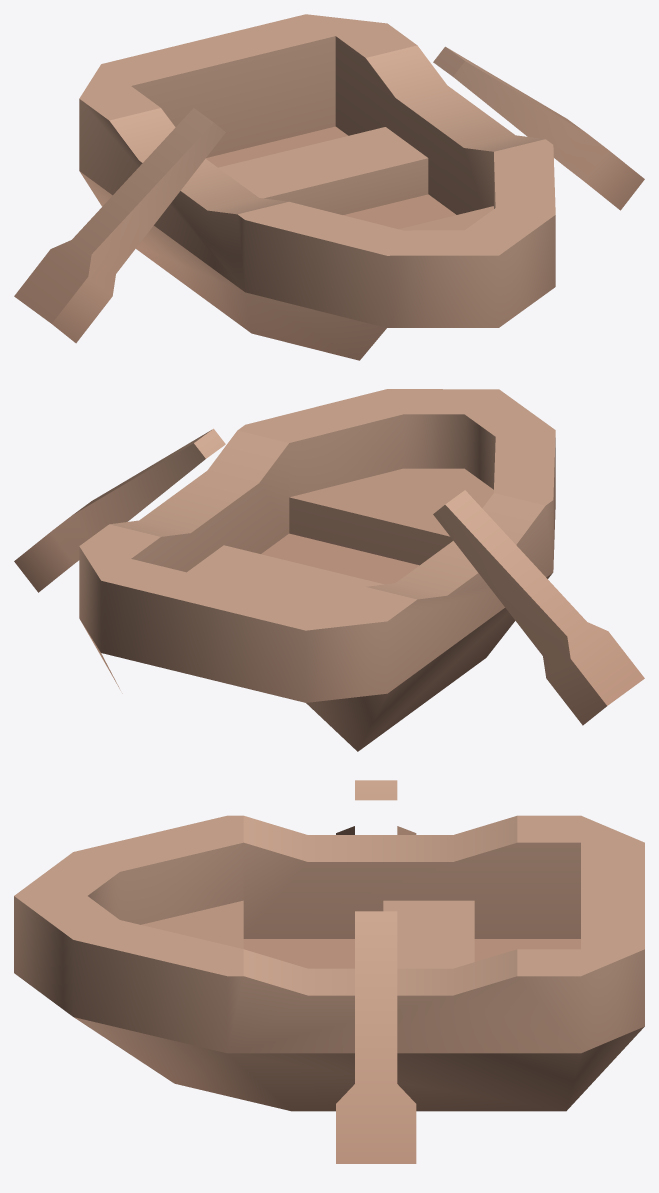
Rendered from rowboat.glb.
The picture shows the model from 3 angles, top to bottom: view 1: azimuth 30°, elevation 25°; view 2: azimuth 150°, elevation 25°; view 3: azimuth 270°, elevation 25°; orthographic projection. The views are drawn at different scales.
Parts seen in each view (by area): view 1: rowboat; view 2: rowboat; view 3: rowboat.
Part boxes in pixels (bbox=[...]): rowboat: bbox=[14, 14, 644, 360]; rowboat: bbox=[14, 389, 644, 751]; rowboat: bbox=[14, 780, 644, 1163].
Size of the model in its own units: 3.24 by 1 by 2.8.
